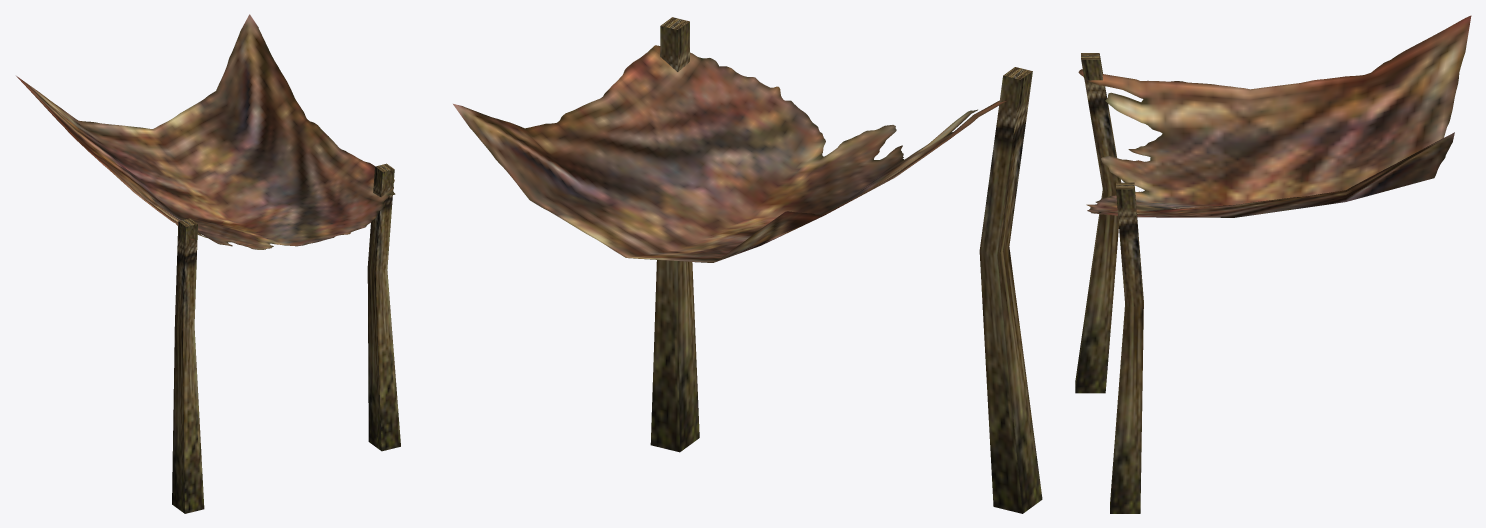
3 views of the same model, side by side, from view 1: azimuth 30°, elevation 25°; view 2: azimuth 150°, elevation 25°; view 3: azimuth 270°, elevation 25° (orthographic). The views are drawn at different scales.
Visible parts, largest first — view 1: a42; view 2: a42; view 3: a42.
Part boxes in pixels (x1,y1,x2,y2): a42: (16,14,400,513); a42: (453,17,1042,513); a42: (1075,15,1471,513).
Size of the model in its own units: 571 by 735 by 702.
2 materials, 2 textured.
